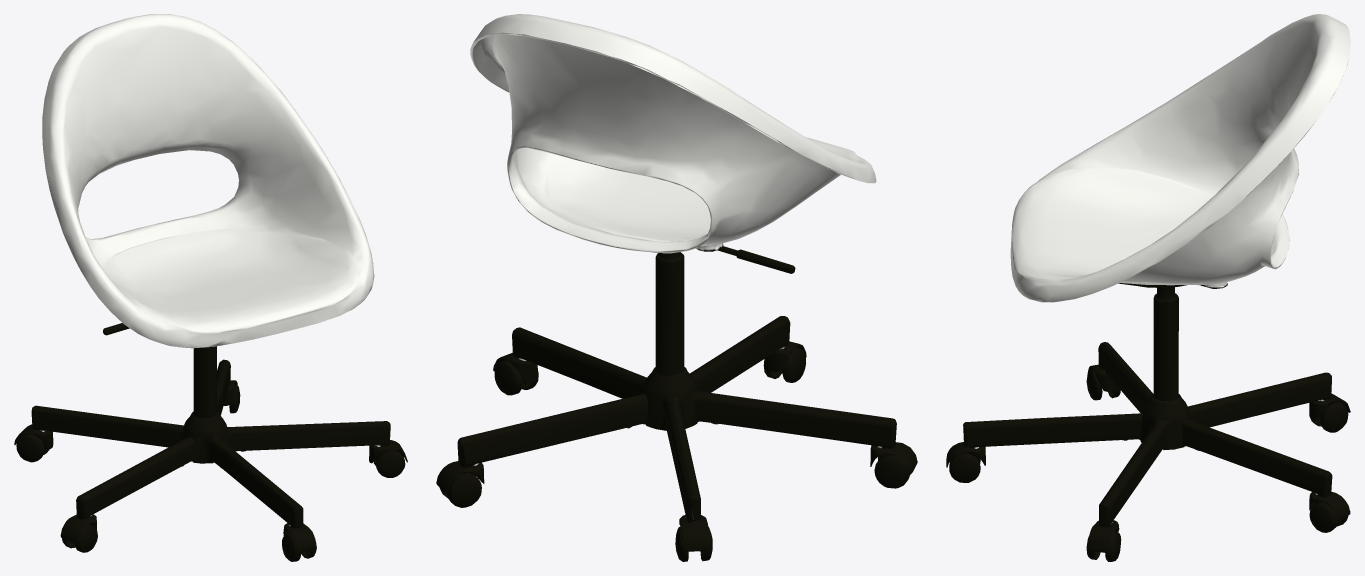
The model's file is 05 - LOBERGET MALSKÄR Swivel chair - whiteblack.glb.
The picture shows the model from 3 angles, left to right: view 1: azimuth 30°, elevation 25°; view 2: azimuth 150°, elevation 25°; view 3: azimuth 270°, elevation 25°; orthographic projection. The views are drawn at different scales.
Parts seen in each view (by area): view 1: ProcessedMeshNode; view 2: ProcessedMeshNode; view 3: ProcessedMeshNode.
Part boxes in pixels (box(x1,y1,x2,y2)): ProcessedMeshNode: box(14, 14, 407, 561); ProcessedMeshNode: box(436, 14, 917, 561); ProcessedMeshNode: box(946, 14, 1350, 561).
Bounding box in the file's own units: 0.6733 × 0.7781 × 0.6413.
1 material, 1 textured.
